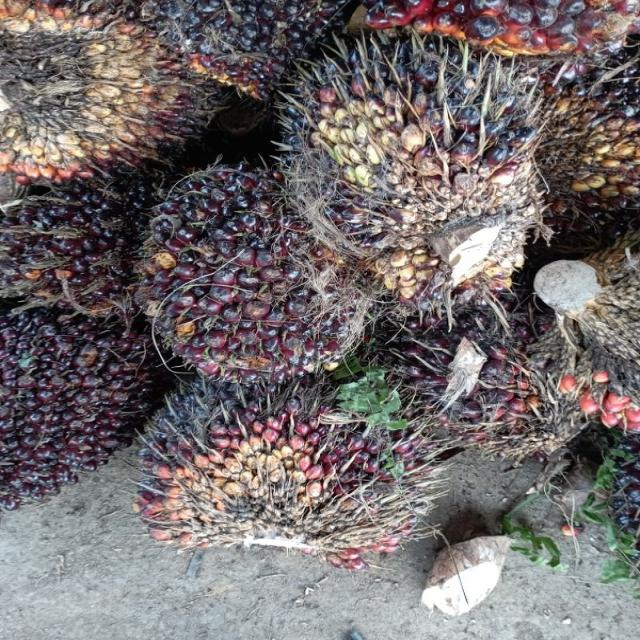fraksi 00: (268, 45, 550, 289), (136, 371, 408, 563), (134, 170, 358, 384), (0, 303, 178, 505)
